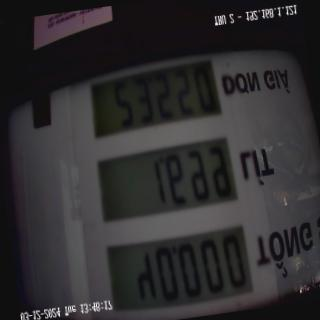screen: (74, 42, 262, 318)
